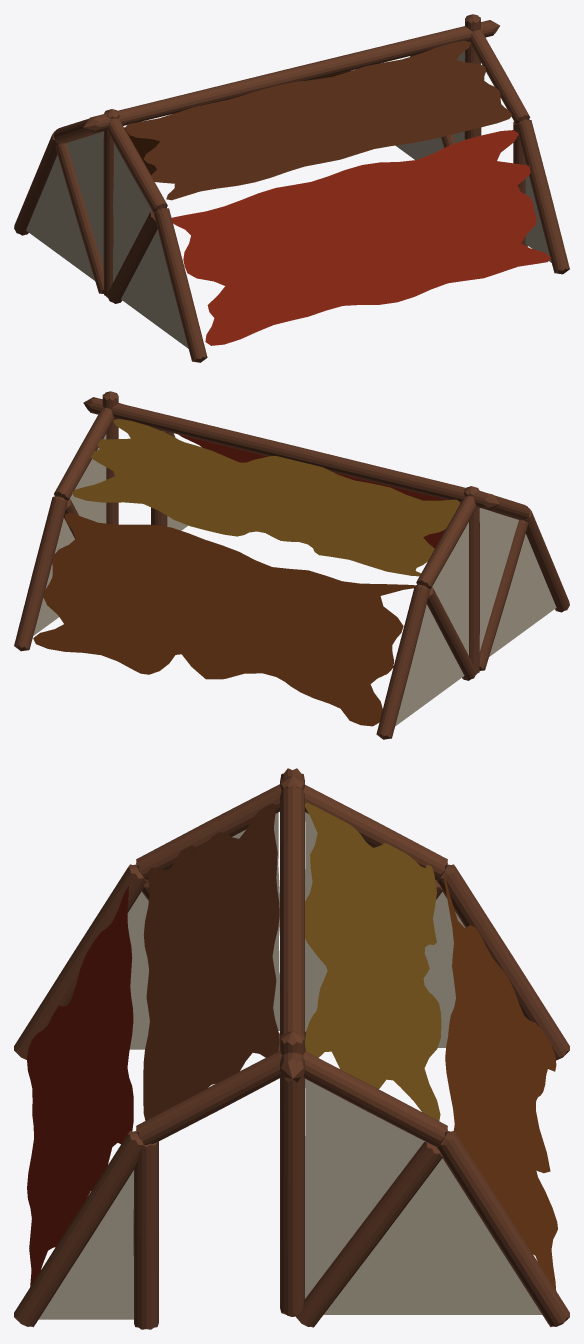
Rendered from ambar.fbx.
3 views of the same model, one above another, from view 1: azimuth 30°, elevation 25°; view 2: azimuth 150°, elevation 25°; view 3: azimuth 270°, elevation 25° (orthographic). The views are drawn at different scales.
Parts seen in each view (by area): view 1: Grid.014, Grid.013, Cylinder.031, Grid.018, Grid.019, Plane.002, Cylinder.039, Cylinder.042, Plane.001, Cylinder.037, Cylinder.030, Cylinder.038 (+8 smaller); view 2: Grid.015, Grid.012, Cylinder.031, Grid.018, Grid.019, Plane.002, Cylinder.036, Cylinder.033, Plane.001, Cylinder.030, Cylinder.035, Cylinder.040 (+8 smaller); view 3: Grid.013, Grid.012, Grid.014, Grid.015, Grid.016, Plane, Grid.017, Cylinder.031, Cylinder.029, Cylinder.033, Cylinder.042, Cylinder.034 (+11 smaller).
Boxes of the visible parts, left/top/right/bottom form: Grid.014: left=171, top=130, right=550, bottom=345; Grid.013: left=125, top=41, right=512, bottom=200; Cylinder.031: left=83, top=20, right=499, bottom=132; Grid.018: left=26, top=155, right=94, bottom=280; Grid.019: left=121, top=229, right=188, bottom=348; Plane.002: left=113, top=143, right=151, bottom=282; Cylinder.039: left=153, top=208, right=207, bottom=362; Cylinder.042: left=516, top=119, right=569, bottom=274; Plane.001: left=66, top=131, right=103, bottom=267; Cylinder.037: left=55, top=143, right=103, bottom=293; Cylinder.030: left=103, top=109, right=119, bottom=297; Cylinder.038: left=107, top=118, right=167, bottom=212; Grid.015: left=33, top=512, right=414, bottom=726; Grid.012: left=71, top=419, right=460, bottom=576; Cylinder.031: left=83, top=397, right=499, bottom=510; Grid.018: left=395, top=604, right=464, bottom=726; Grid.019: left=489, top=534, right=556, bottom=656; Plane.002: left=479, top=508, right=518, bottom=651; Cylinder.036: left=376, top=584, right=430, bottom=739; Cylinder.033: left=14, top=496, right=67, bottom=651; Plane.001: left=432, top=522, right=468, bottom=655; Cylinder.030: left=463, top=486, right=479, bottom=674; Cylinder.035: left=416, top=496, right=476, bottom=589; Cylinder.040: left=479, top=520, right=528, bottom=670; Grid.013: left=143, top=803, right=279, bottom=1120; Grid.012: left=305, top=802, right=441, bottom=1120; Grid.014: left=27, top=886, right=133, bottom=1286; Grid.015: left=443, top=875, right=557, bottom=1290; Grid.016: left=323, top=1158, right=541, bottom=1314; Plane: left=305, top=1079, right=424, bottom=1298; Grid.017: left=39, top=1170, right=133, bottom=1319; Cylinder.031: left=280, top=768, right=304, bottom=1082; Cylinder.029: left=280, top=1031, right=304, bottom=1316; Cylinder.033: left=436, top=1131, right=569, bottom=1327; Cylinder.042: left=14, top=1131, right=143, bottom=1327; Cylinder.034: left=295, top=1142, right=442, bottom=1327.
Bounding box in the file's own units: 637 × 288 × 488.
